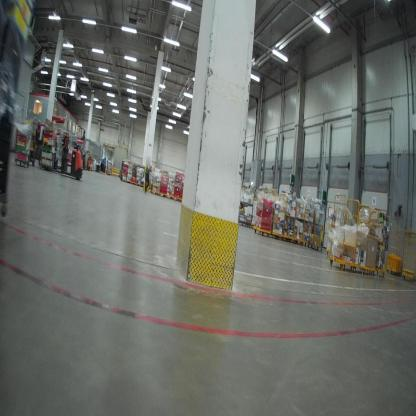pallet_truck: (40, 122, 87, 183), (80, 145, 92, 172)
